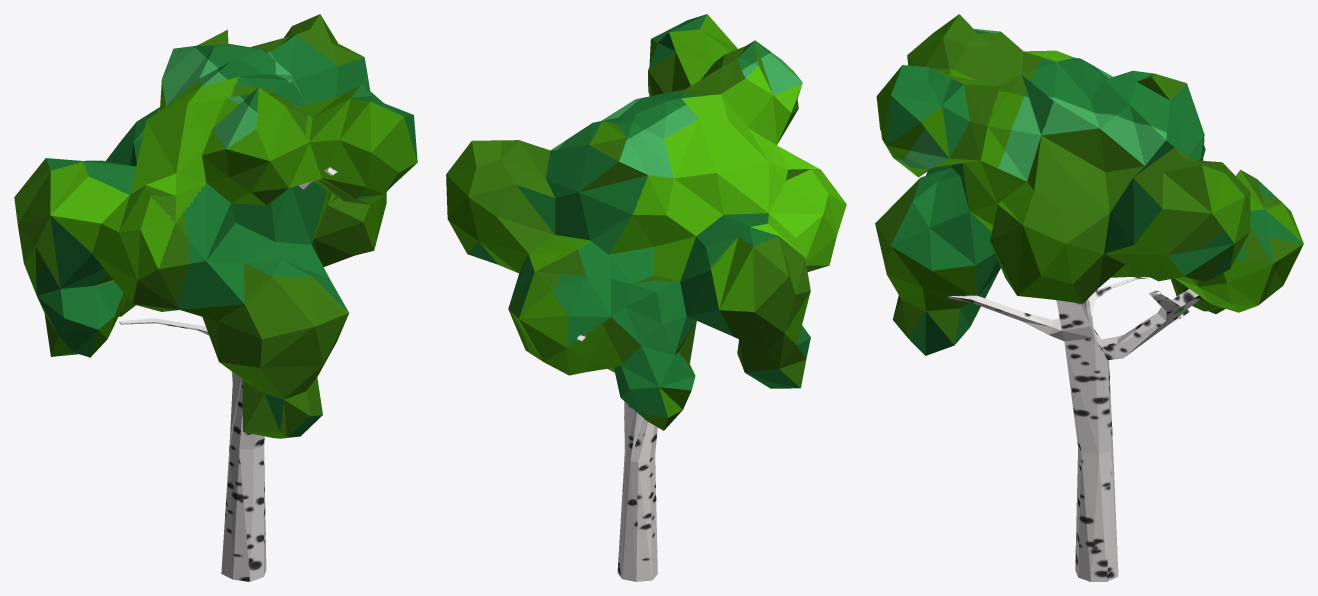
The model's file is tree3.obj.
The picture shows the model from 3 angles, left to right: view 1: azimuth 30°, elevation 25°; view 2: azimuth 150°, elevation 25°; view 3: azimuth 270°, elevation 25°; orthographic projection. The views are drawn at different scales.
Parts seen in each view (by area): view 1: _5_tree; view 2: _5_tree; view 3: _5_tree.
Part boxes in pixels (x1,y1,x2,y2): _5_tree: (14,14,417,581); _5_tree: (446,14,846,581); _5_tree: (875,14,1303,581).
Bounding box in the file's own units: 0.8389 × 1.23 × 0.9014.
